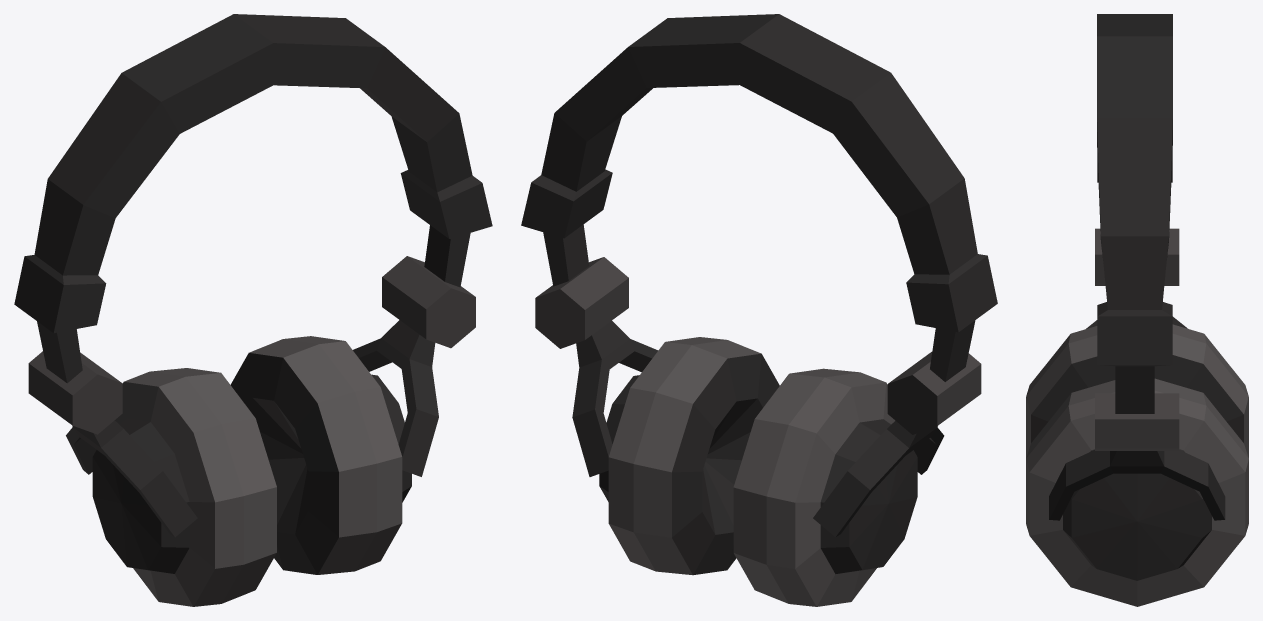
File: headphones.fbx
The picture shows the model from 3 angles, left to right: view 1: azimuth 30°, elevation 25°; view 2: azimuth 150°, elevation 25°; view 3: azimuth 270°, elevation 25°; orthographic projection. The views are drawn at different scales.
Visible parts, largest first — view 1: polySurface2; view 2: polySurface2; view 3: polySurface2.
Part boxes in pixels (box(x1,y1,x2,y2)): polySurface2: box(14, 14, 492, 606); polySurface2: box(521, 14, 997, 606); polySurface2: box(1026, 14, 1248, 606).
Bounding box in the file's own units: 139 × 168 × 64.03.
Materials: 1 (1 with a texture image).
